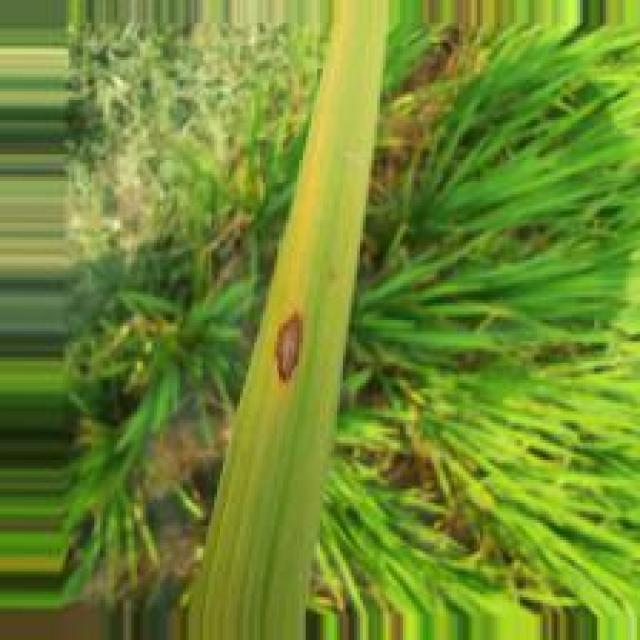Rice Tungro: (271, 306, 304, 391)
